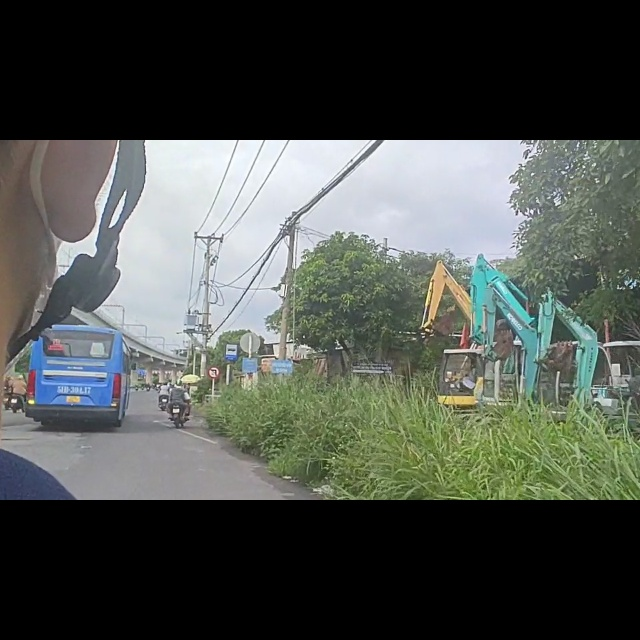bien_cam: (225, 360, 239, 393), (207, 402, 221, 424)
